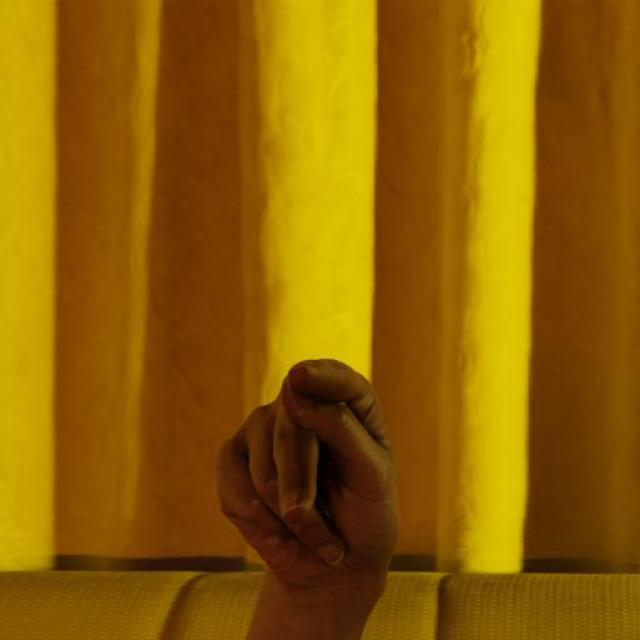P: (215, 357, 403, 584)
